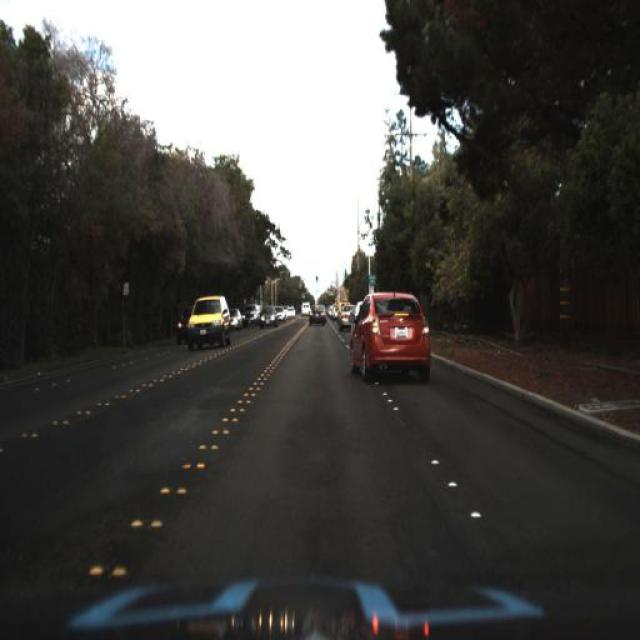car: (348, 288, 432, 388), (182, 290, 228, 354), (226, 306, 247, 336), (308, 302, 328, 331), (258, 302, 278, 329), (260, 305, 280, 331), (299, 296, 312, 320)
